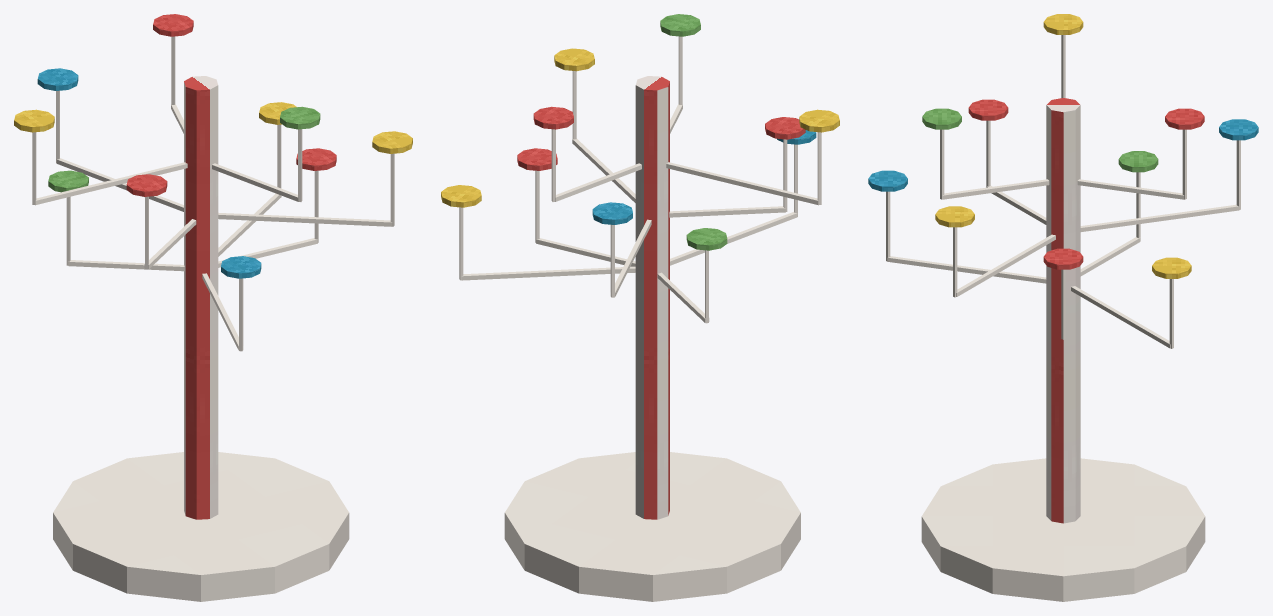
3 renders of one model, left to right at view 1: azimuth 30°, elevation 25°; view 2: azimuth 150°, elevation 25°; view 3: azimuth 270°, elevation 25°, orthographic. The views are drawn at different scales.
Parts seen in each view (by area): view 1: Decor_lollipop_tree; view 2: Decor_lollipop_tree; view 3: Decor_lollipop_tree.
Boxes of the visible parts, x1=… form: Decor_lollipop_tree: x1=14, y1=14, x2=412, y2=601; Decor_lollipop_tree: x1=441, y1=14, x2=839, y2=601; Decor_lollipop_tree: x1=868, y1=14, x2=1258, y2=601.
Size of the model in its own units: 1.31 by 1.72 by 1.38.
Materials: 6 (6 with a texture image).
